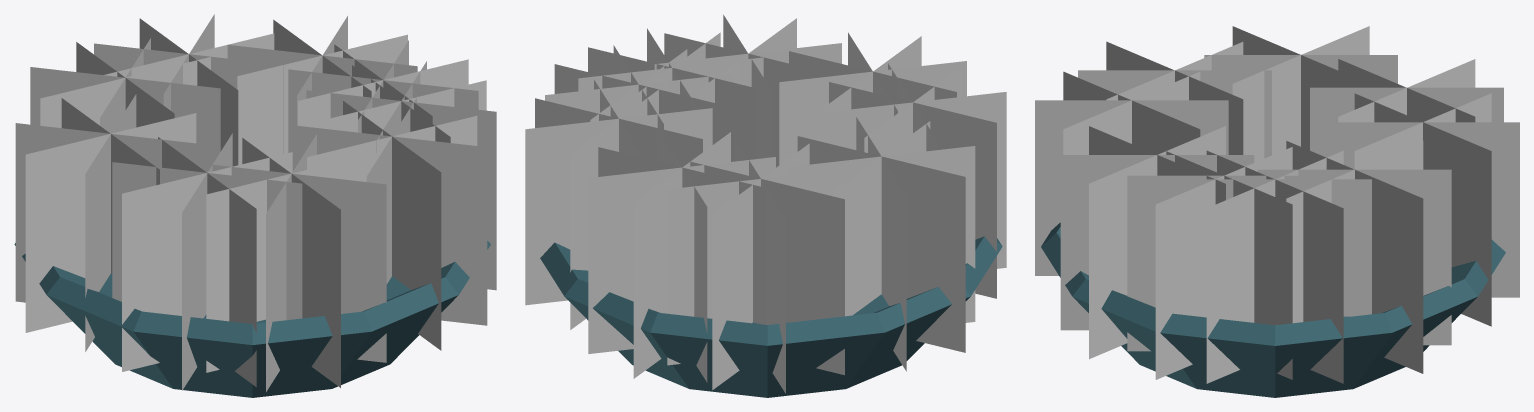
3 renders of one model, left to right at view 1: azimuth 30°, elevation 25°; view 2: azimuth 150°, elevation 25°; view 3: azimuth 270°, elevation 25°, orthographic.
Parts seen in each view (by area): view 1: a03; view 2: a03; view 3: a03.
Part boxes in pixels (bbox=[...]): a03: bbox=[14, 14, 496, 397]; a03: bbox=[525, 14, 1006, 397]; a03: bbox=[1035, 26, 1519, 397].
Bounding box in the file's own units: 0.6251 × 0.304 × 0.6207.
